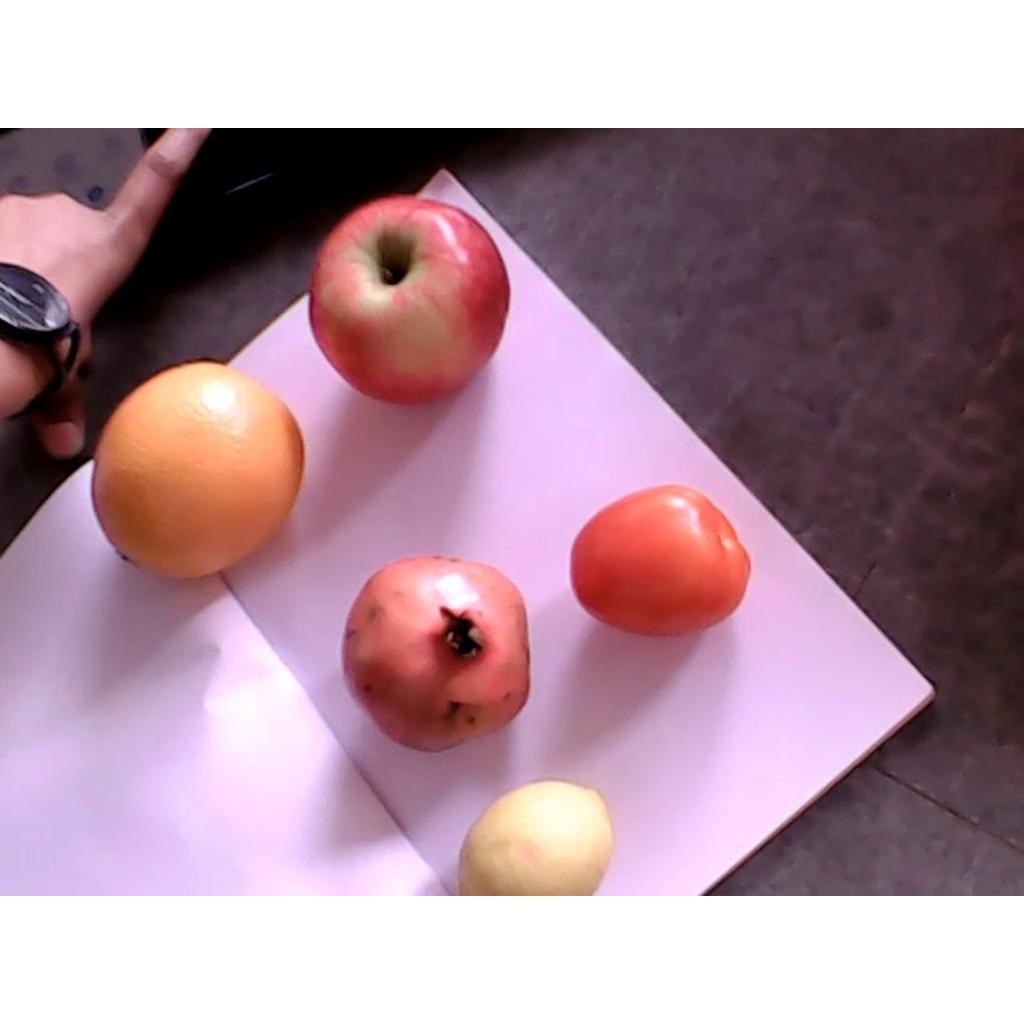apple: (308, 195, 511, 407)
lemon: (459, 780, 613, 894)
orange: (92, 362, 302, 578)
pomegranate: (342, 555, 531, 753)
tomato: (570, 485, 751, 635)
